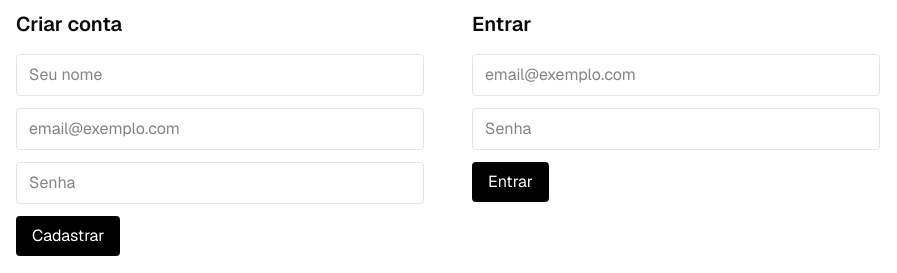
AccountPage (client) › exibe erro retornado pela signInAction
Type "user@example.com" into the 1st field with placeholder "email@exemplo.com" at (676, 75), box [472, 54, 880, 96]
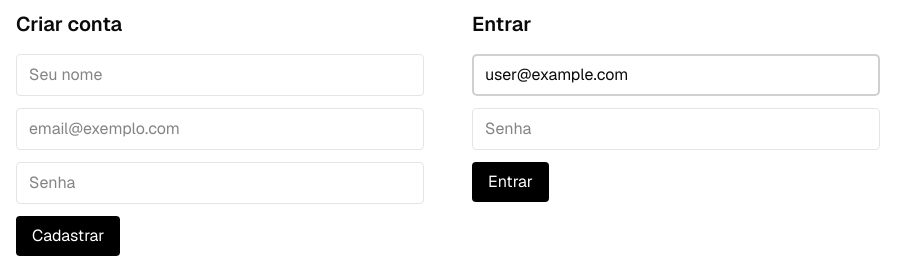
Type "pw" into the 1st password field with placeholder "Senha" at (676, 129), box [472, 108, 880, 150]
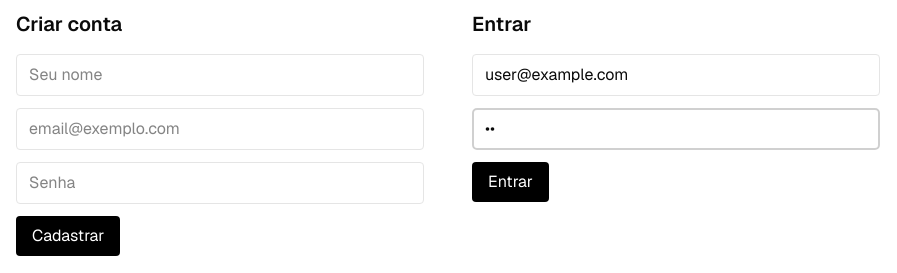
Click the button "Entrar" at (510, 182), box [472, 162, 549, 202]
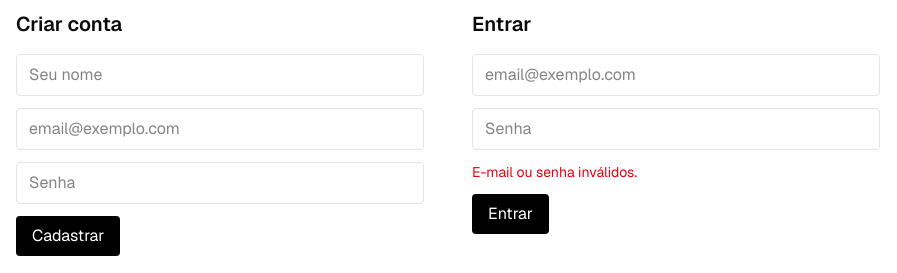
expect the text "E-mail ou senha inválidos." is shown: met, box [472, 163, 637, 181]
